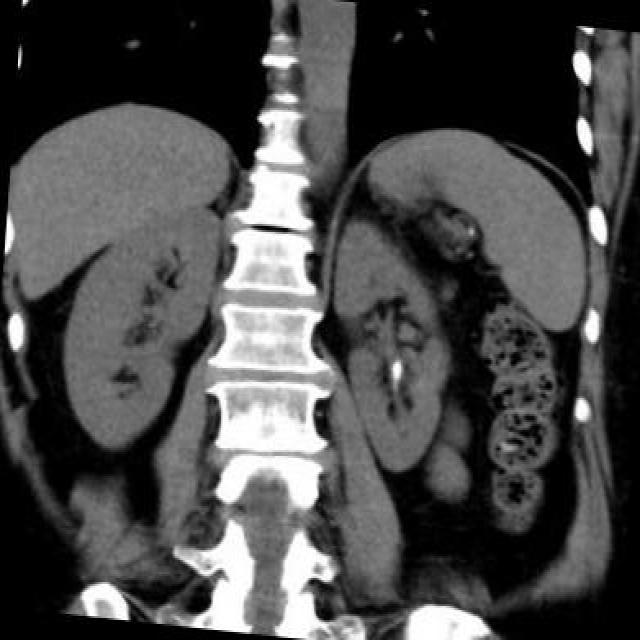Tas_Var: (388, 357, 401, 387)
